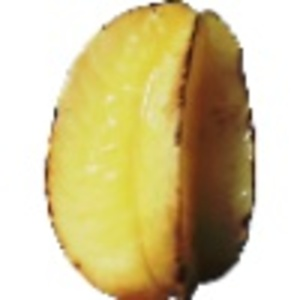carambola: (43, 1, 259, 300)
